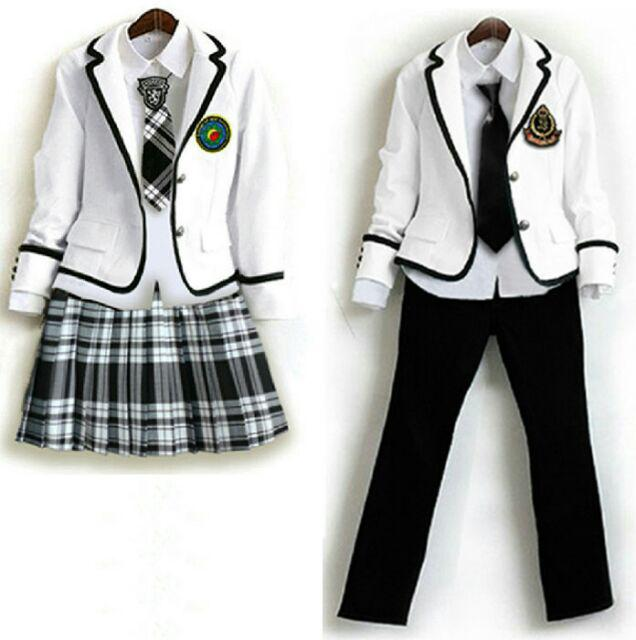Pants_Leggings: (338, 299, 616, 624)
